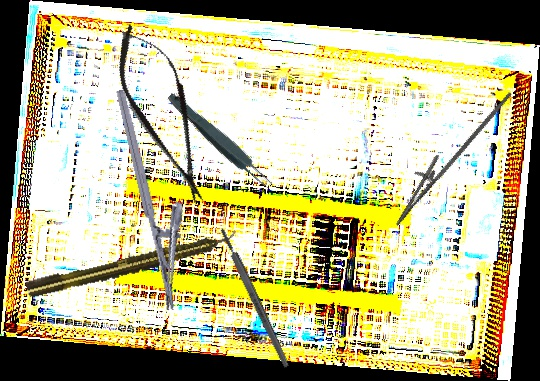Handpiece: (24, 228, 240, 300)
Micro Scissor: (101, 14, 227, 214)
Needle Holder: (384, 73, 513, 238), (114, 82, 206, 312)
Scalpel Handle: (217, 226, 292, 370)
Tissue Forceps: (163, 89, 276, 193)
